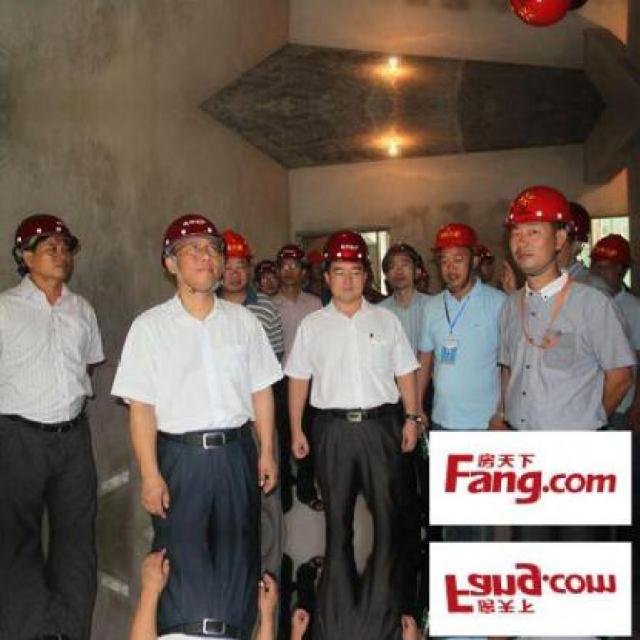helmet: (503, 184, 577, 274), (157, 206, 225, 295), (13, 209, 79, 283), (317, 228, 372, 298), (429, 217, 482, 287), (588, 232, 634, 286), (218, 228, 256, 292), (379, 237, 421, 292), (503, 0, 578, 29), (560, 196, 591, 262), (275, 240, 307, 289), (253, 255, 279, 302), (560, 0, 592, 17)
